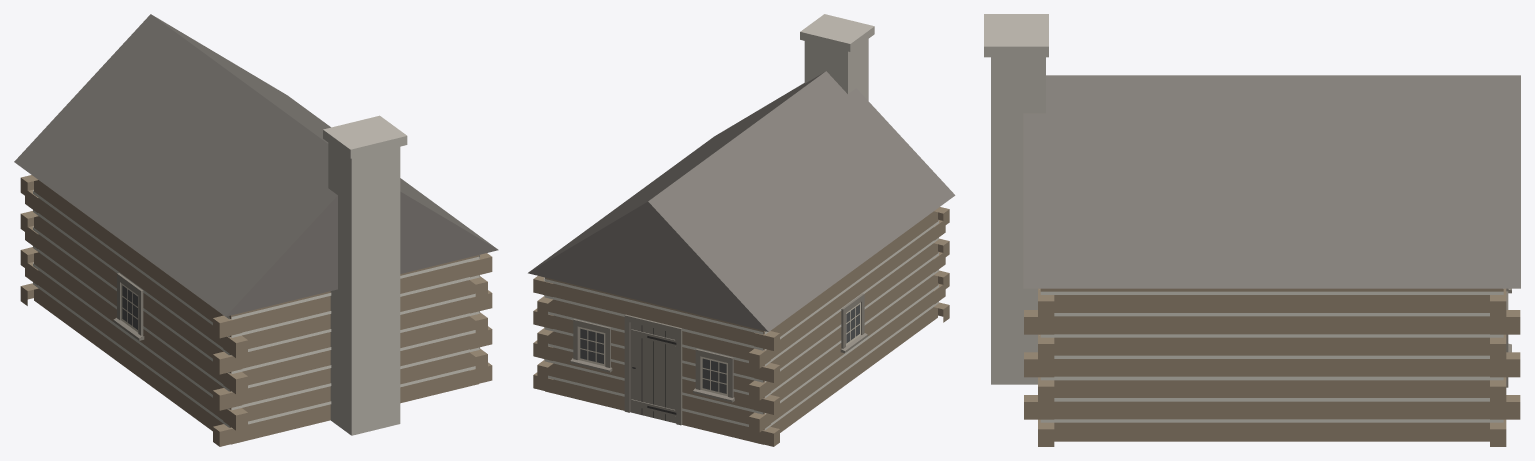
The model's file is recon_1835_west_051__inferred_1835.glb.
The picture shows the model from 3 angles, left to right: view 1: azimuth 30°, elevation 25°; view 2: azimuth 150°, elevation 25°; view 3: azimuth 270°, elevation 25°; orthographic projection. The views are drawn at different scales.
Visible parts, largest first — view 1: recon_1835_west_051__inferred_1835; view 2: recon_1835_west_051__inferred_1835; view 3: recon_1835_west_051__inferred_1835.
Boxes of the visible parts, bbox=[...] form: recon_1835_west_051__inferred_1835: bbox=[14, 14, 498, 446]; recon_1835_west_051__inferred_1835: bbox=[528, 14, 955, 446]; recon_1835_west_051__inferred_1835: bbox=[984, 14, 1520, 446].
Bounding box in the file's own units: 5.38 × 5.44 × 7.78.
